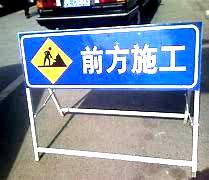sign: (19, 33, 199, 88)
